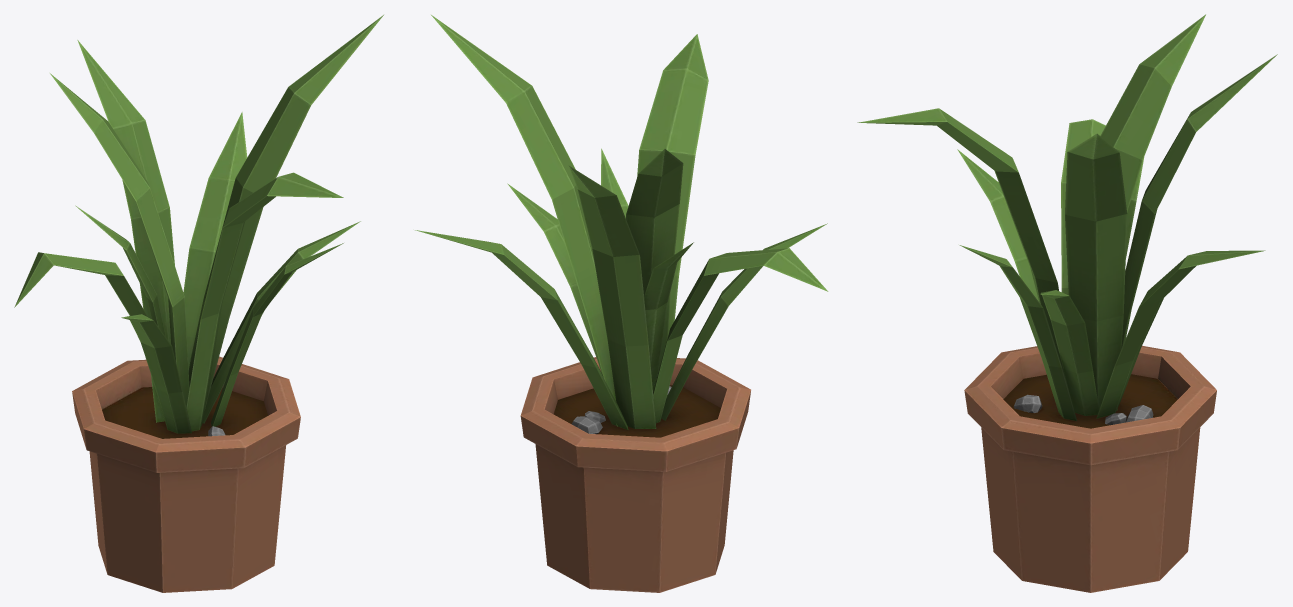
File: plant.glb
3 renders of one model, left to right at view 1: azimuth 30°, elevation 25°; view 2: azimuth 150°, elevation 25°; view 3: azimuth 270°, elevation 25°, orthographic. The views are drawn at different scales.
Visible parts, largest first — view 1: Houseplant_mesh; view 2: Houseplant_mesh; view 3: Houseplant_mesh.
Part boxes in pixels (bbox=[...]): Houseplant_mesh: bbox=[14, 15, 383, 592]; Houseplant_mesh: bbox=[415, 15, 828, 592]; Houseplant_mesh: bbox=[857, 14, 1277, 592].
Size of the model in its own units: 4.85 by 5.93 by 4.34.
1 material, 1 textured.
